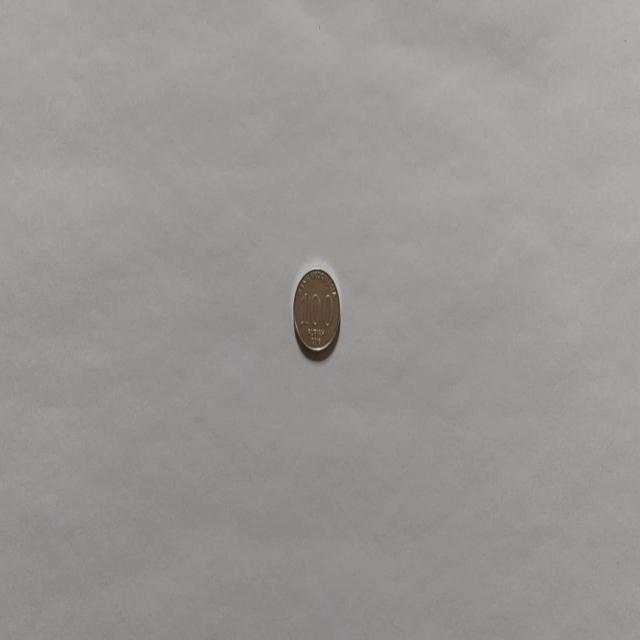seratus rupiah: (292, 266, 341, 356)
